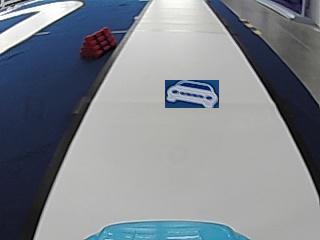bomb: (81, 24, 115, 57)
